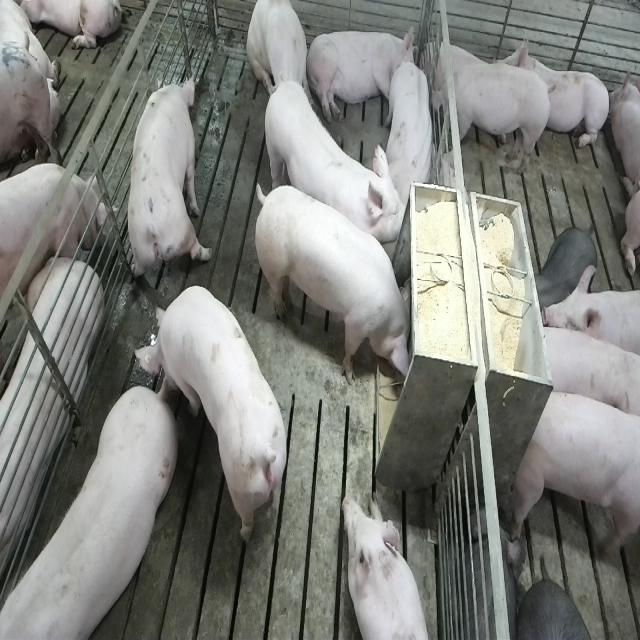Feeding: (256, 177, 420, 397)
Lateral_lying: (0, 252, 101, 611), (305, 23, 417, 126)
Sitting: (247, 1, 310, 112)
Standing: (0, 382, 174, 640), (131, 287, 285, 546), (260, 76, 400, 256), (506, 384, 638, 566), (125, 71, 210, 294), (0, 165, 107, 319), (429, 63, 553, 182), (538, 322, 638, 425), (542, 266, 640, 364)
Sternal_lying: (344, 491, 434, 640), (507, 31, 610, 155)
